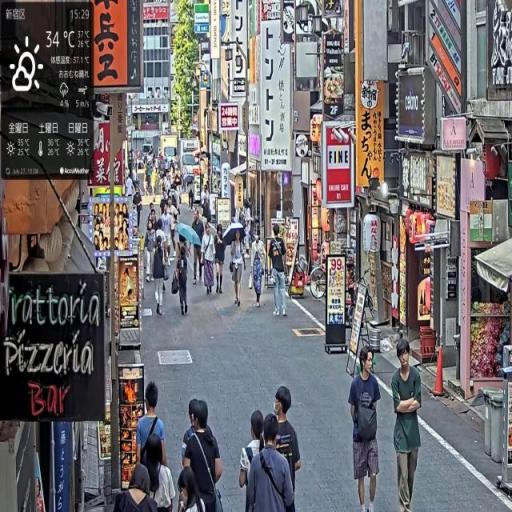person: (348, 346, 383, 512), (391, 336, 424, 512), (245, 413, 297, 512), (183, 397, 225, 512), (273, 385, 304, 507), (136, 383, 168, 474), (143, 436, 177, 512), (112, 462, 159, 512), (151, 231, 169, 318), (231, 231, 248, 310), (202, 221, 217, 297), (177, 244, 192, 317), (214, 223, 227, 294)
